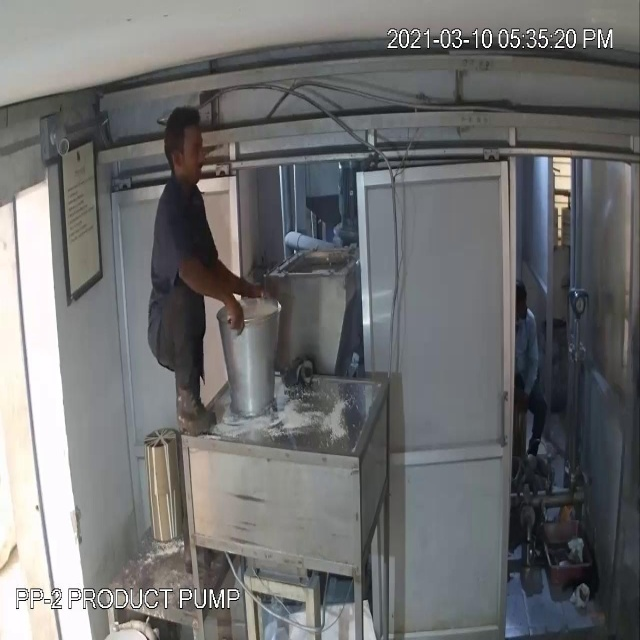Sin_guantes: (163, 243, 250, 343)
